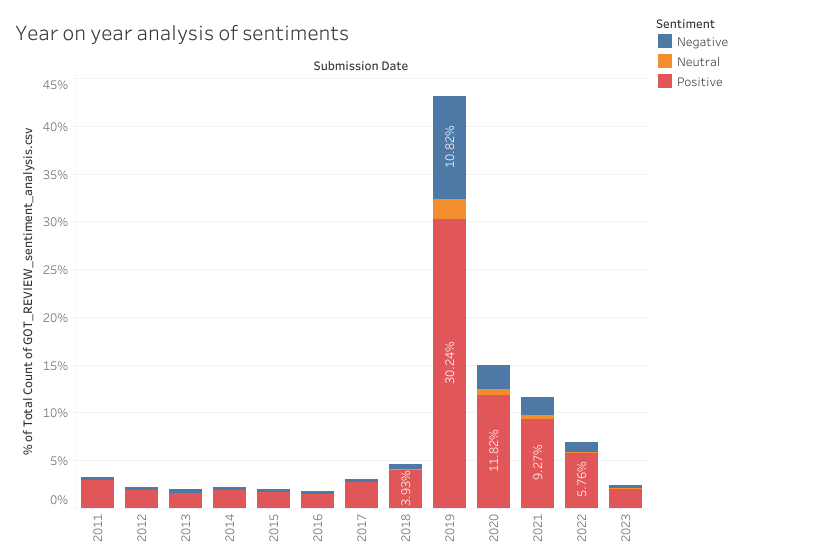

Layout of this report page (visuals, bound fields, positions):
{"tool":"tableau","page":{"name":"Dashboard 2","canvas":[1000,1000],"units":"permille","ordinal":1},"visuals":[{"type":"worksheet","title":"sentiment","mark":"Bar","rows":["GOT_REVIEW_sentiment_analysis.csv_C41E28AFD947463D87156D45AD"],"cols":["submissionDate"],"box":[9.8,13.5,980.5,973]},{"type":"legend","title":"sentiment","param":"[federated.0jm1nr10x0v2l9180miyk1nluf14].[none:Sentiment:nk]","box":[793.9,67.5,170.7,131.5]}]}

Visuals, with their boxes on the dashboard's canvas, which has no fixed pixel size, in thousandths of its width and height (x1, y1, x2, y2). These are canvas units, not pixel positions in the 818x559 screenshot, which may show the page scaled, cropped or inside an application window:
"sentiment" worksheet (Bar marks): box(10, 14, 990, 986)
"sentiment" legend: box(794, 68, 965, 199)
